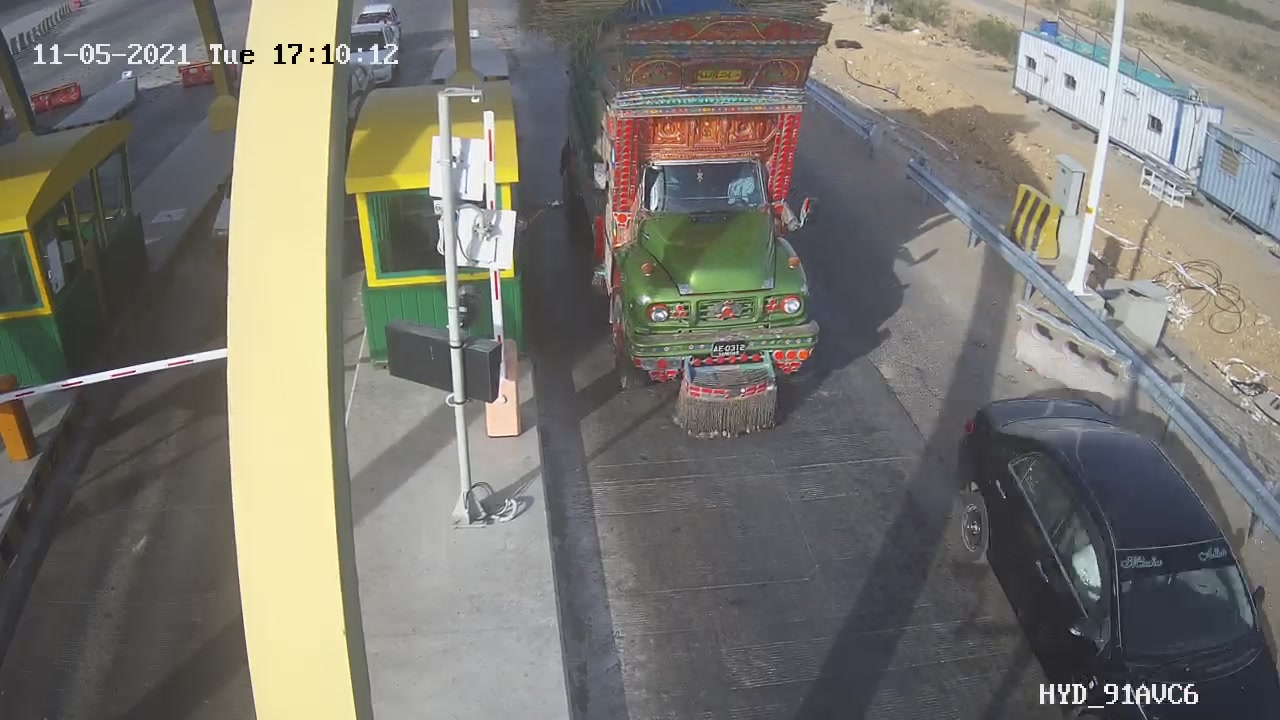F5: (540, 1, 889, 452)
